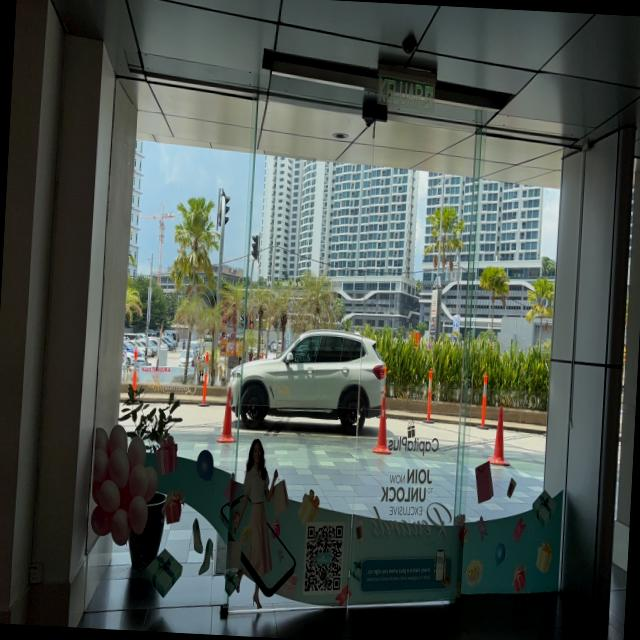door: (227, 91, 485, 615)
